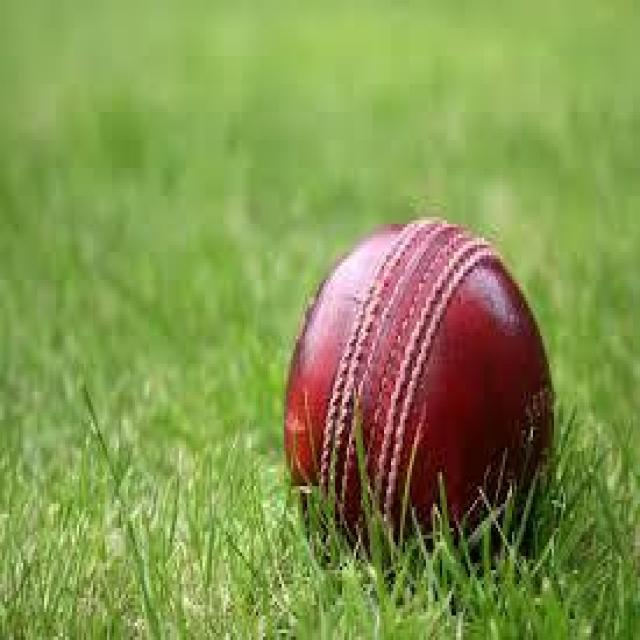ball: (284, 221, 556, 574)
